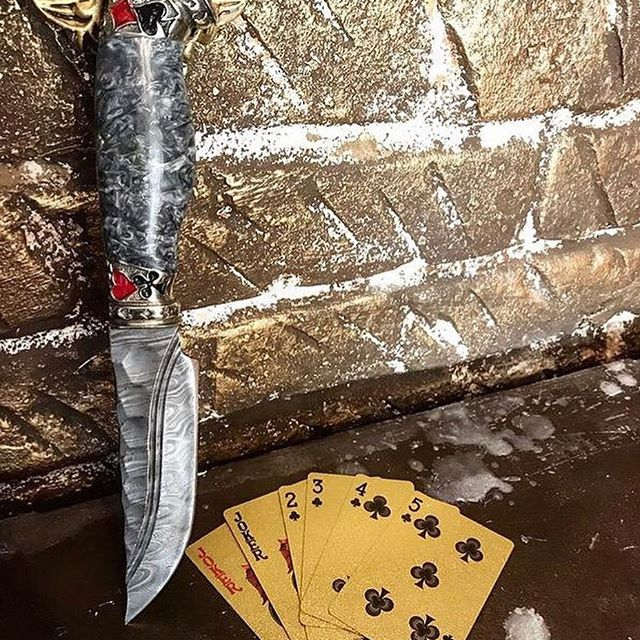knife: (96, 35, 206, 625)
